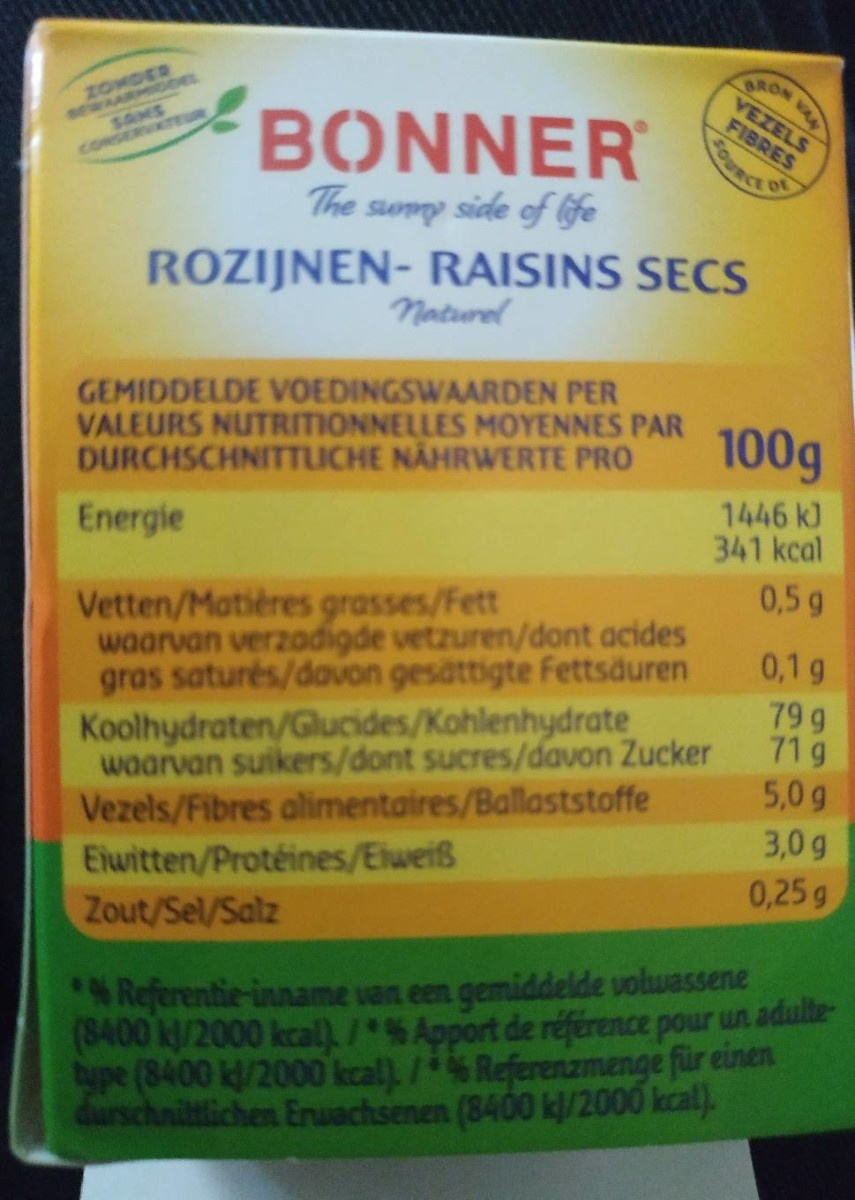column: (72, 380, 711, 930), (717, 428, 830, 911)
table: (60, 358, 848, 944)
